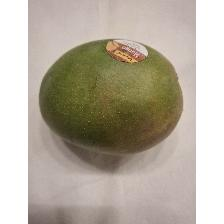Mango: (38, 37, 184, 158)
